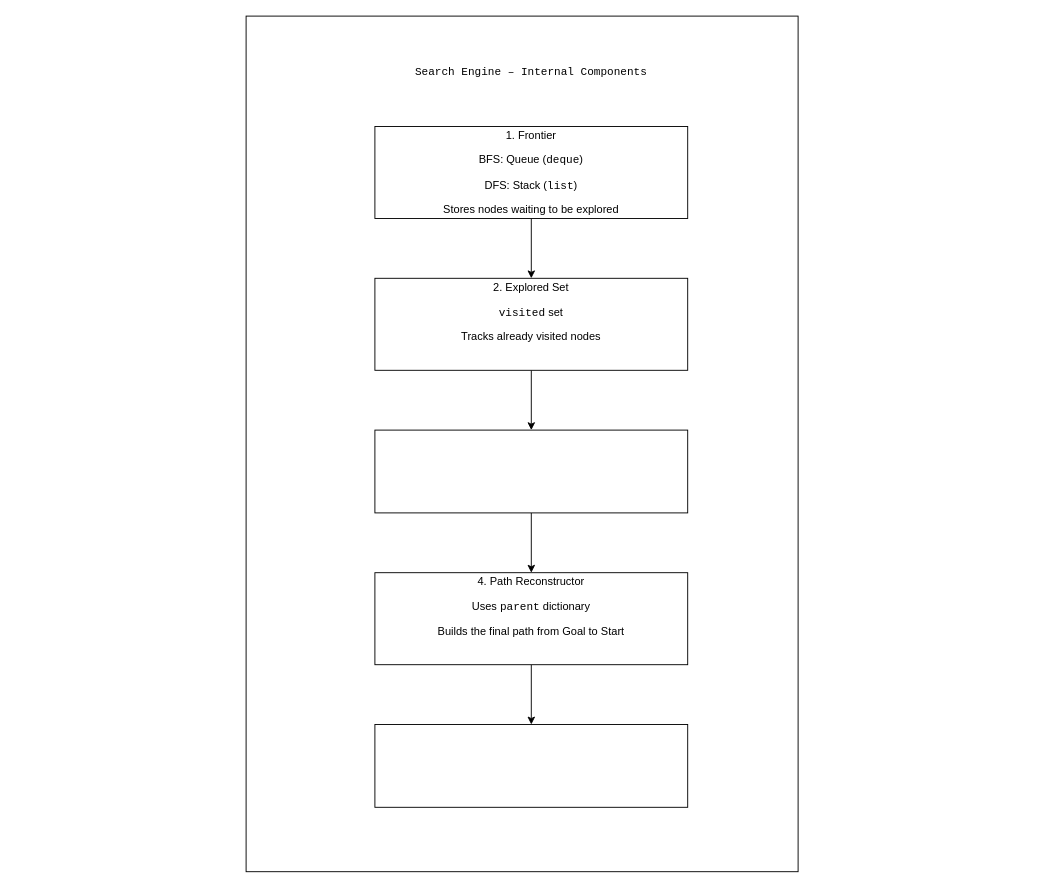
The diagram is 1044 pixels wide and 888 high, and some of its shapes have lost their labels. The box of each missing label's shape, as (x1, y1, x2, y2) in pixels:
3. Goal Test node == goal Checks whether the current node is the goal: (374, 429, 688, 513)
5. Search Result Final path and nodes expanded: (374, 724, 688, 807)
